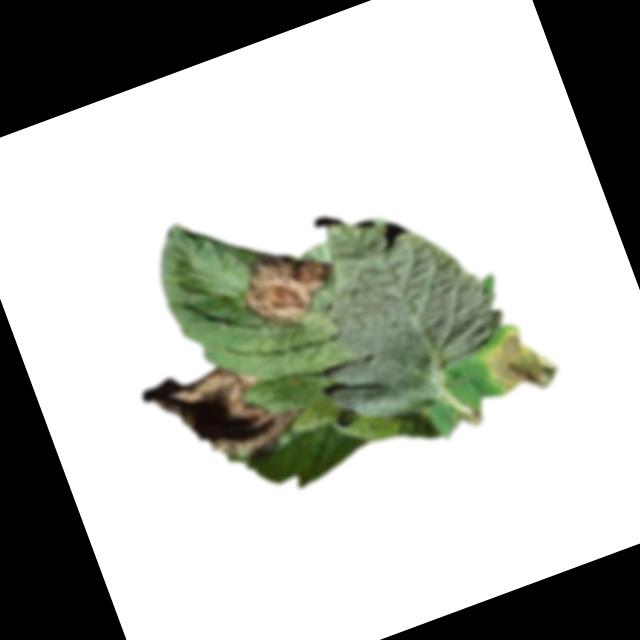Late_blight: (140, 338, 314, 487), (230, 230, 346, 339), (475, 315, 567, 405), (446, 402, 487, 437)
